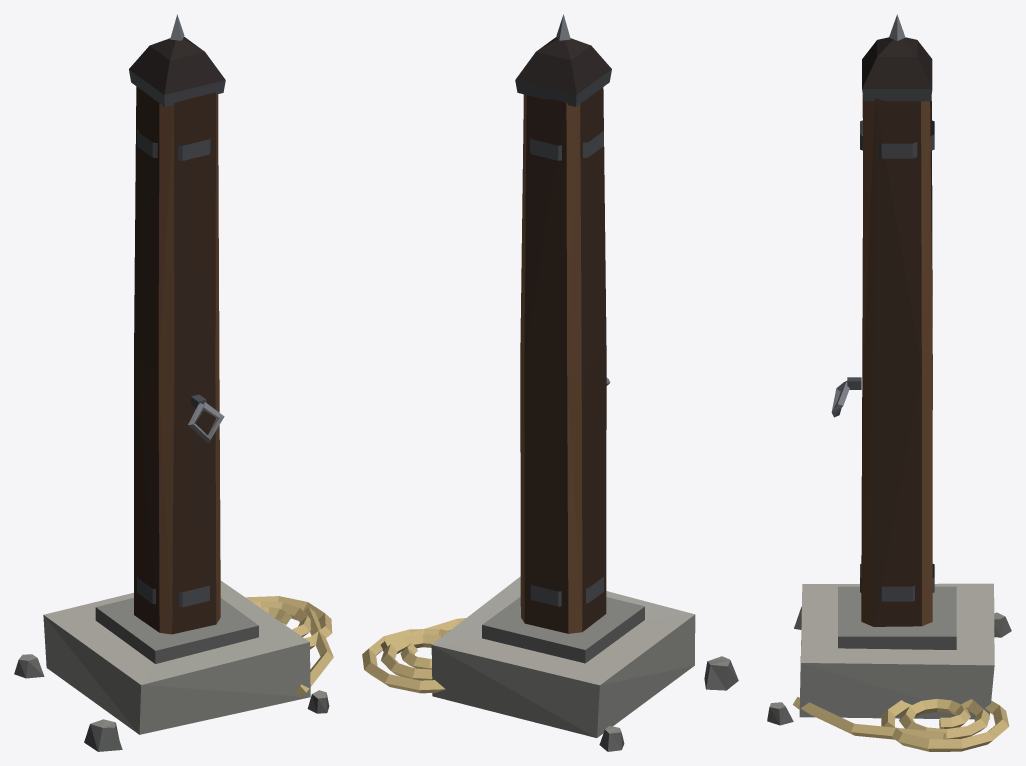
Rendered from binding_post.fbx.
3 renders of one model, left to right at view 1: azimuth 30°, elevation 25°; view 2: azimuth 150°, elevation 25°; view 3: azimuth 270°, elevation 25°, orthographic.
Parts seen in each view (by area): view 1: binding_post; view 2: binding_post; view 3: binding_post.
Boxes of the visible parts, <box> form: binding_post: <box>14,14,333,751</box>; binding_post: <box>362,14,738,751</box>; binding_post: <box>767,14,1011,751</box>.
Bounding box in the file's own units: 1.44 × 3.1 × 1.03.
